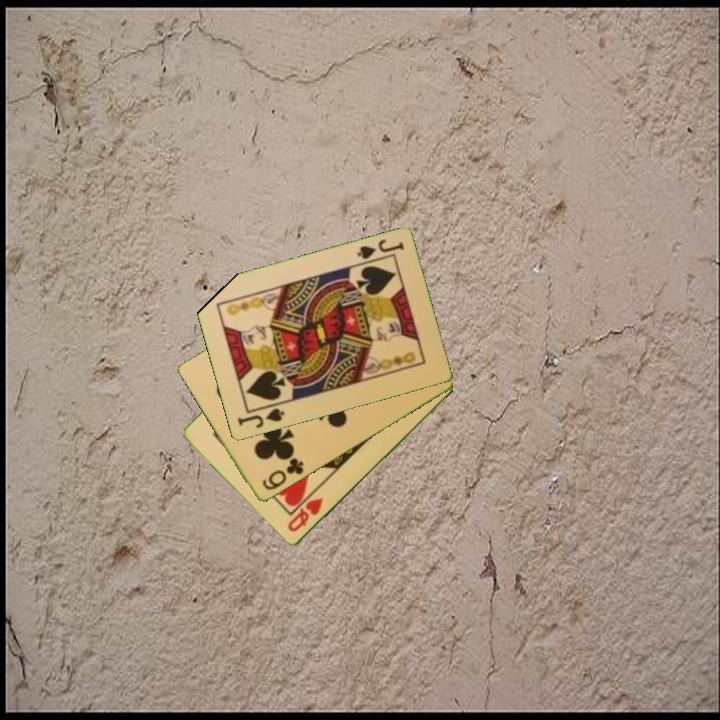6c: (258, 454, 307, 494)
Js: (234, 405, 287, 431), (354, 236, 407, 262)
Qh: (284, 494, 326, 535)
